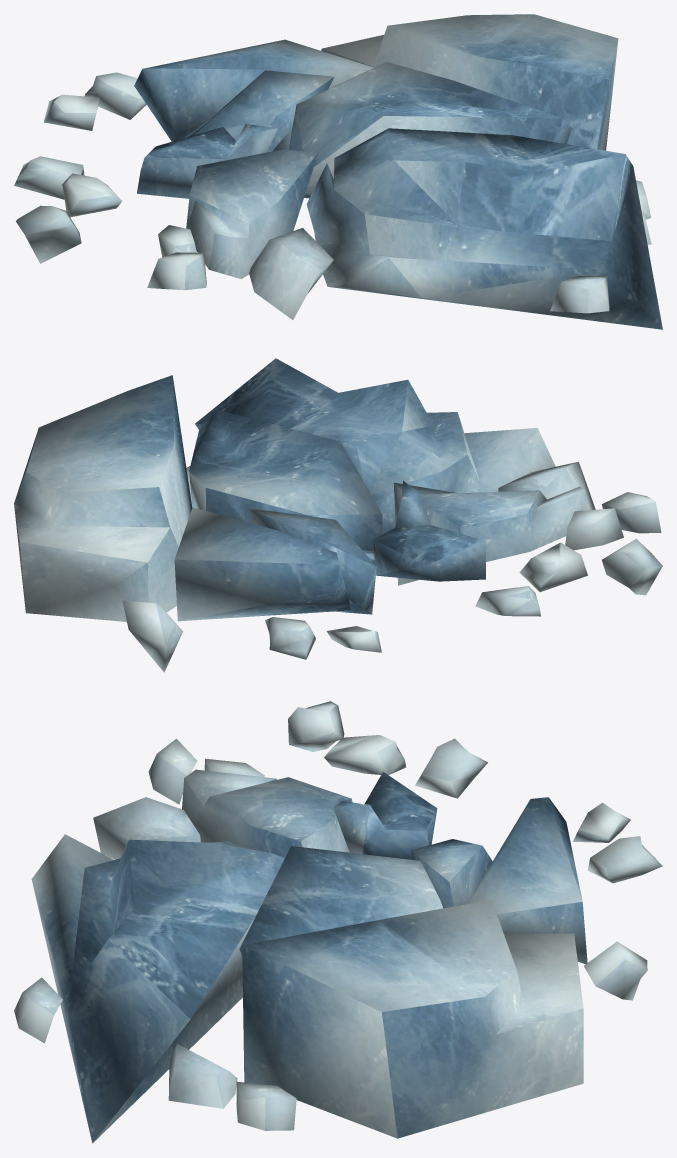
File: S_Rock_White051.FBX
3 views of the same model, one above another, from view 1: azimuth 30°, elevation 25°; view 2: azimuth 150°, elevation 25°; view 3: azimuth 270°, elevation 25° (orthographic). The views are drawn at different scales.
Visible parts, largest first — view 1: S_Rock_White051; view 2: S_Rock_White051; view 3: S_Rock_White051.
Boxes of the visible parts, bbox=[...] form: S_Rock_White051: bbox=[14, 14, 662, 329]; S_Rock_White051: bbox=[14, 358, 662, 672]; S_Rock_White051: bbox=[14, 701, 662, 1143].
Size of the model in its own units: 586 by 495 by 177.
